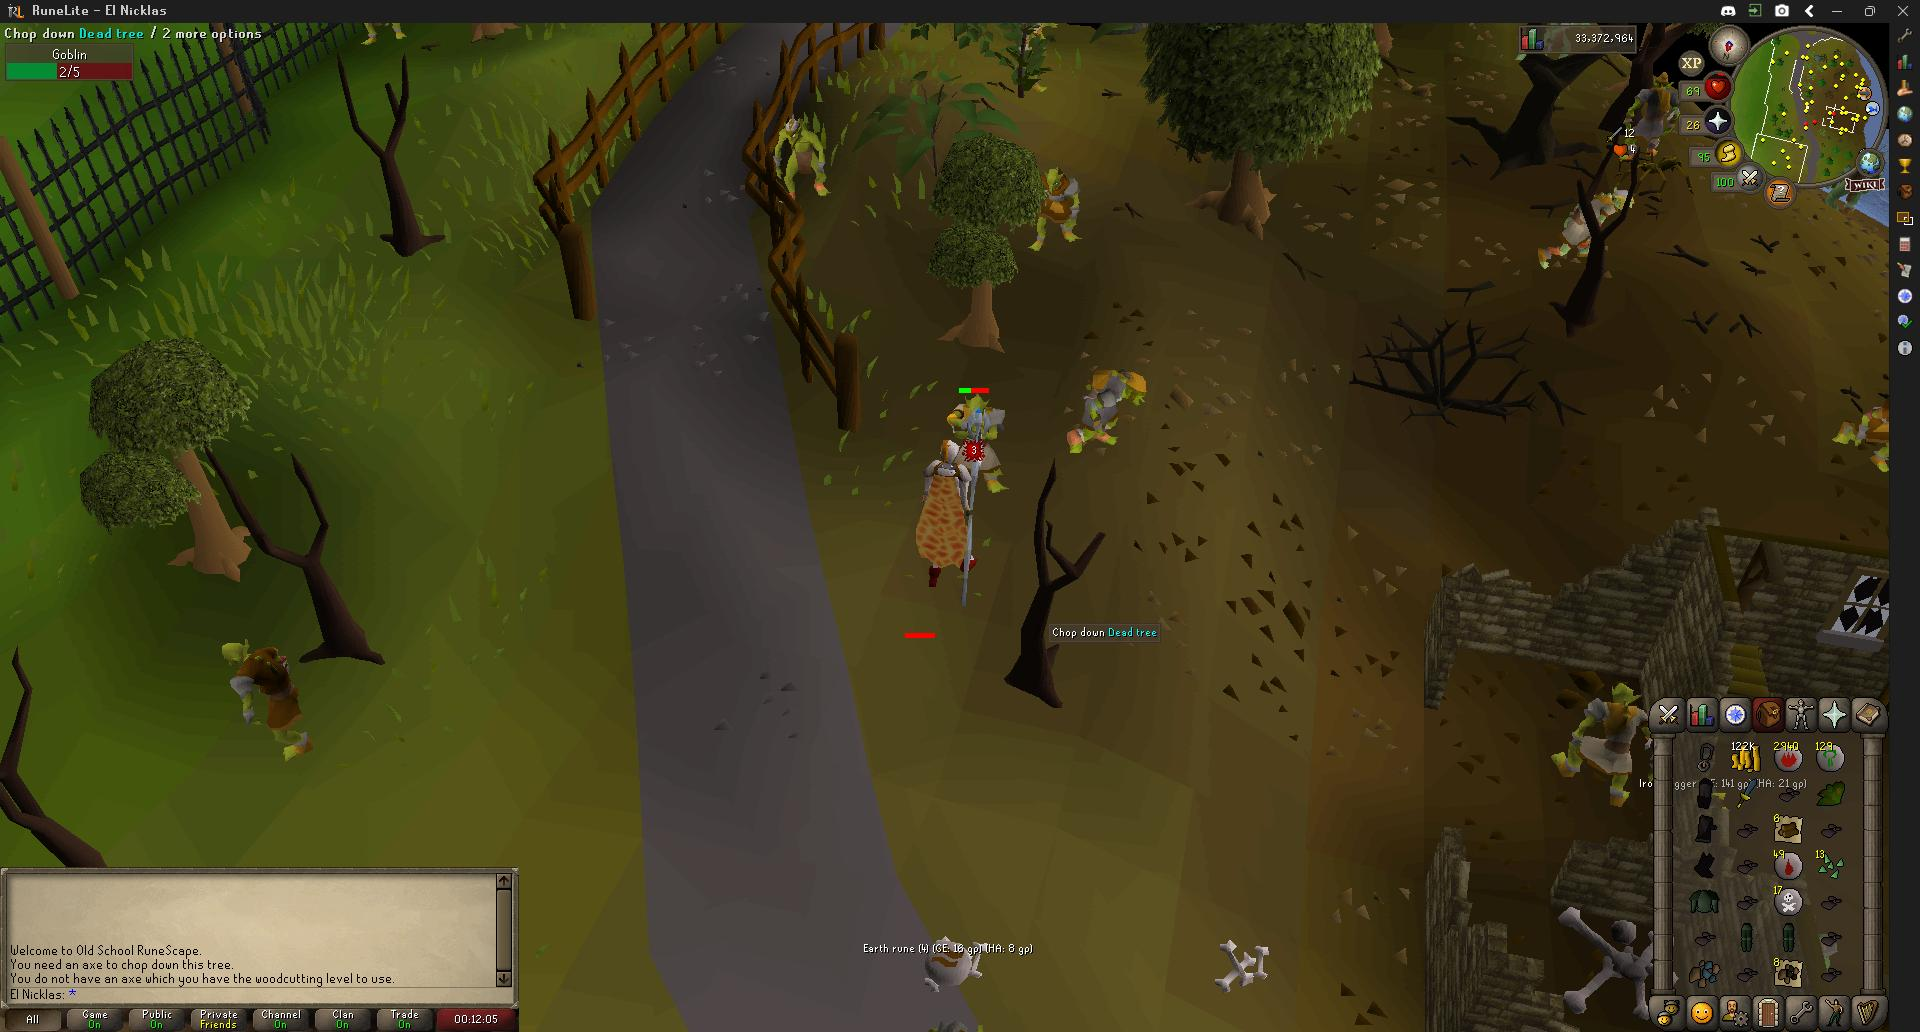Player: (917, 433, 999, 588)
goblin: (1551, 680, 1648, 804), (226, 643, 313, 759), (1070, 366, 1151, 449), (772, 112, 829, 201), (1029, 164, 1082, 248), (1830, 405, 1890, 471)
